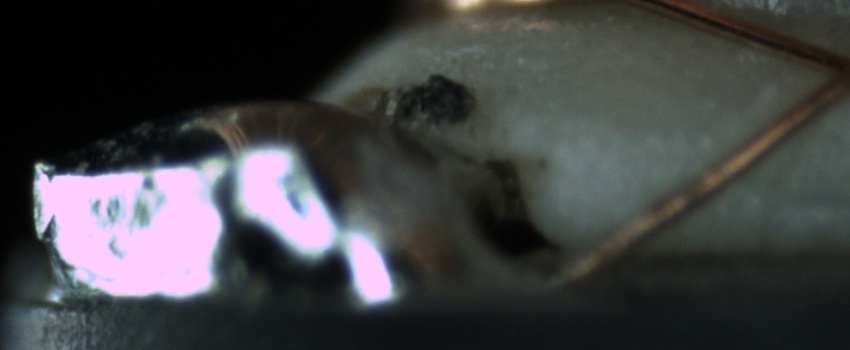CL: (815, 47, 847, 96)
DL: (577, 112, 747, 173)
